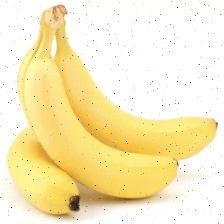banana: (41, 51, 192, 197)
